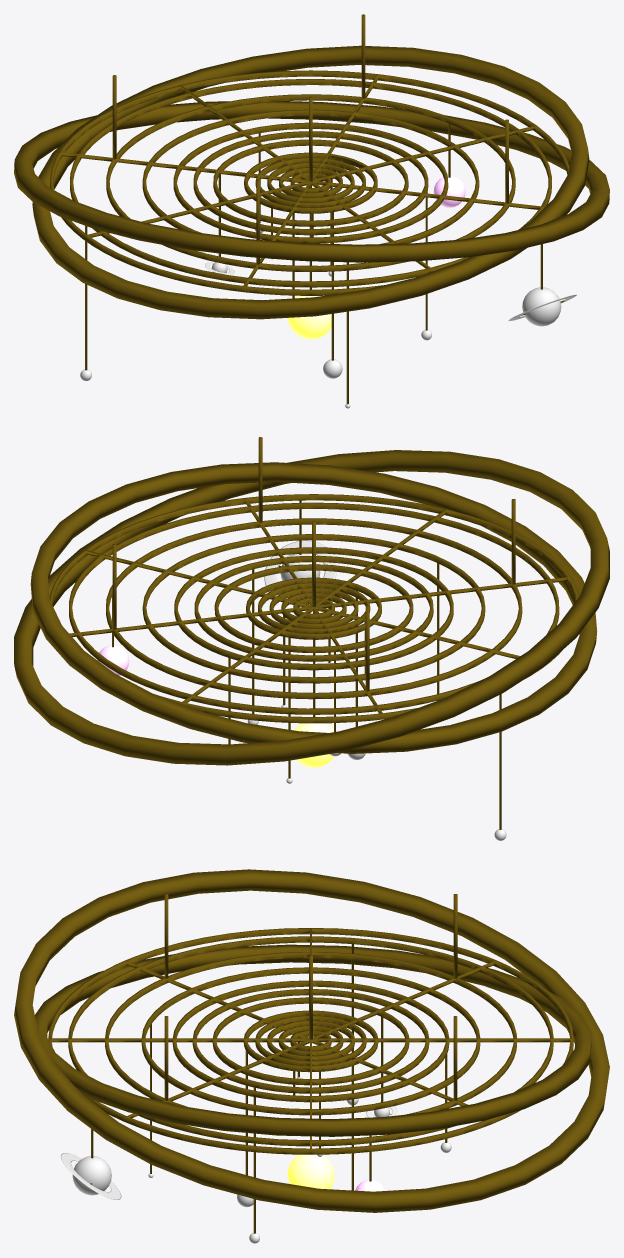
The model's file is Planetarium textured.glb.
3 views of the same model, one above another, from view 1: azimuth 30°, elevation 25°; view 2: azimuth 150°, elevation 25°; view 3: azimuth 270°, elevation 25° (orthographic).
Parts seen in each view (by area): view 1: Planetarium, Circle, Circle.001, Sphere.011, Sphere, Sphere.010; view 2: Planetarium, Circle.001, Circle, Sphere, Torus.001; view 3: Planetarium, Circle.001, Circle, Sphere, Sphere.011, Torus.001.
Boxes of the visible parts, left/top/right/bottom form: Planetarium: left=50, top=70, right=569, bottom=404; Circle: left=32, top=45, right=589, bottom=319; Circle.001: left=14, top=101, right=609, bottom=262; Sphere.011: left=522, top=287, right=561, bottom=326; Sphere: left=287, top=295, right=334, bottom=339; Sphere.010: left=433, top=176, right=465, bottom=207; Planetarium: left=49, top=494, right=578, bottom=829; Circle.001: left=14, top=450, right=609, bottom=765; Circle: left=30, top=462, right=597, bottom=753; Sphere: left=294, top=723, right=333, bottom=767; Torus.001: left=264, top=540, right=336, bottom=604; Planetarium: left=48, top=928, right=573, bottom=1233; Circle.001: left=14, top=869, right=609, bottom=1212; Circle: left=35, top=944, right=591, bottom=1136; Sphere: left=287, top=1154, right=334, bottom=1189; Sphere.011: left=72, top=1156, right=111, bottom=1195; Torus.001: left=60, top=1153, right=121, bottom=1199.
Bounding box in the file's own units: 36.59 × 17.3 × 36.57.
